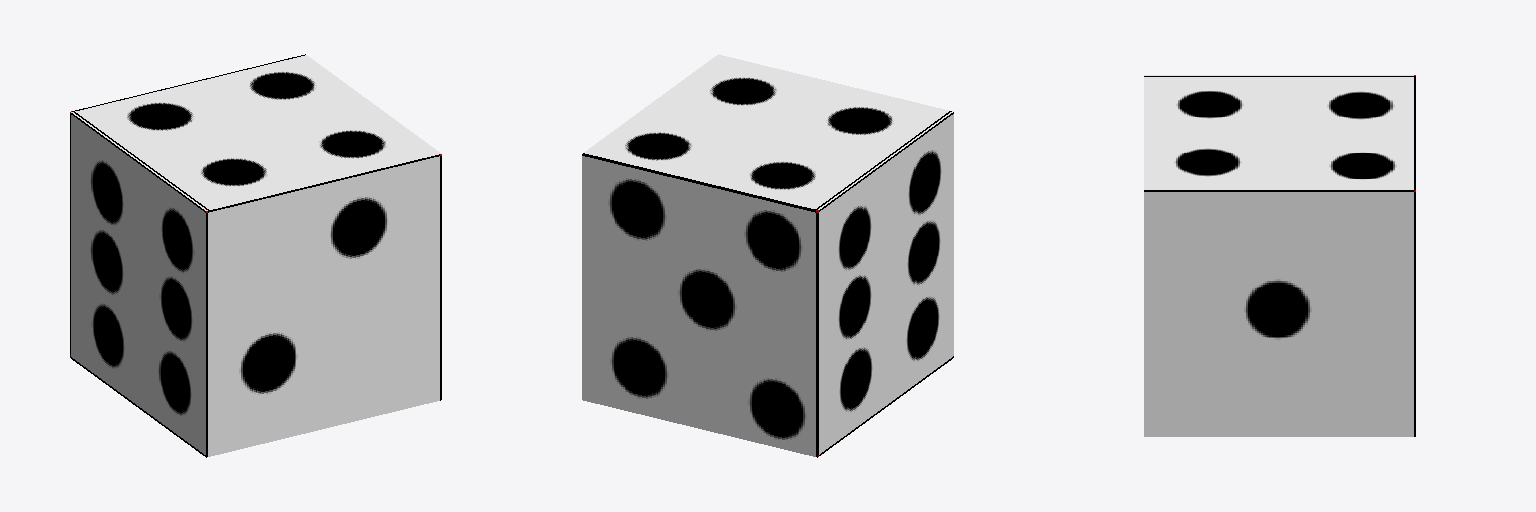
The picture shows the model from 3 angles: view 1: azimuth 30°, elevation 25°; view 2: azimuth 150°, elevation 25°; view 3: azimuth 270°, elevation 25°; orthographic projection.
Visible parts, largest first — view 1: Cube; view 2: Cube; view 3: Cube.
Part boxes in pixels (bbox=[...]): Cube: bbox=[70, 54, 441, 457]; Cube: bbox=[582, 54, 953, 457]; Cube: bbox=[1144, 75, 1415, 436].
Size of the model in its own units: 2 by 2 by 2.
Materials: 1 (1 with a texture image).